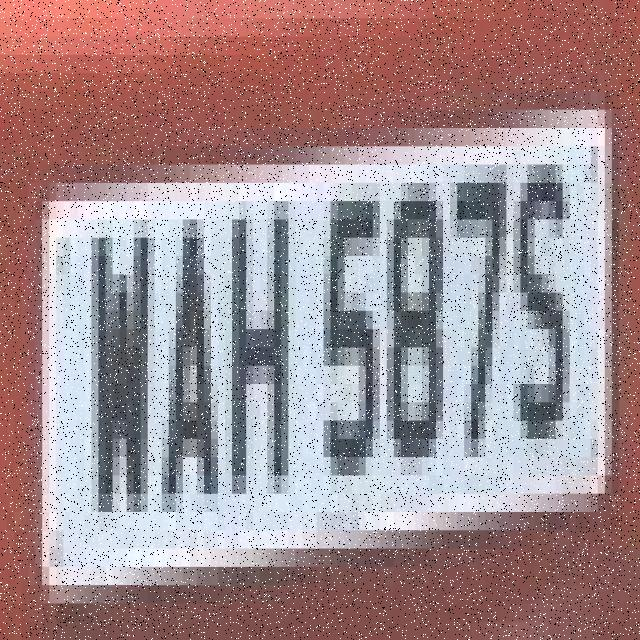licenseplate: (18, 57, 622, 610)
